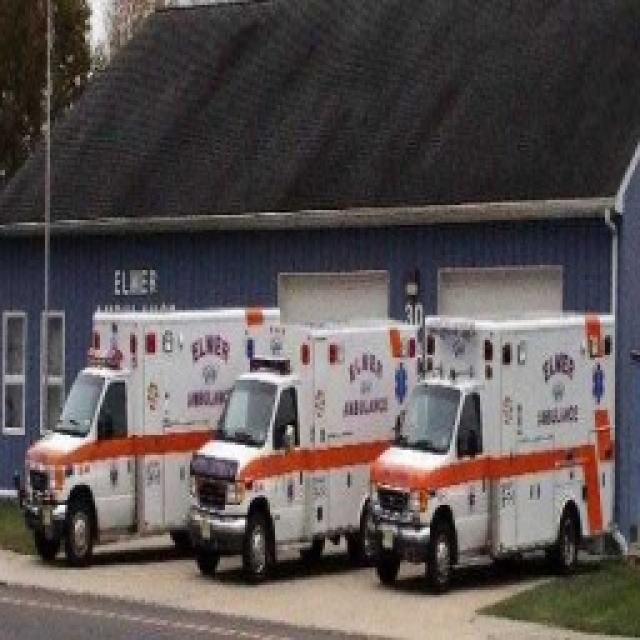emergency-vehicle: (0, 290, 320, 565), (350, 318, 630, 619), (179, 311, 458, 594)
